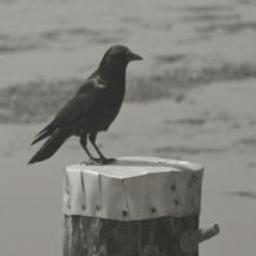Crow: (24, 40, 143, 171)
